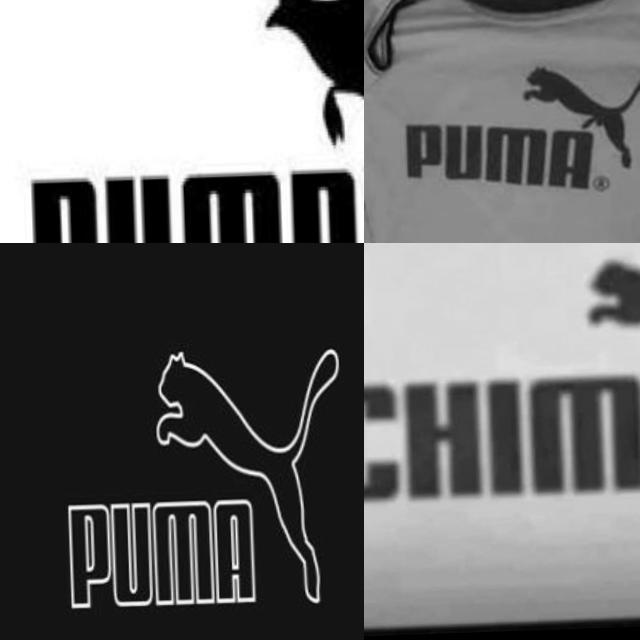PUMA_fake: (9, 0, 364, 243), (364, 259, 640, 560), (513, 44, 640, 182)
PUMA_original: (42, 310, 357, 640)
